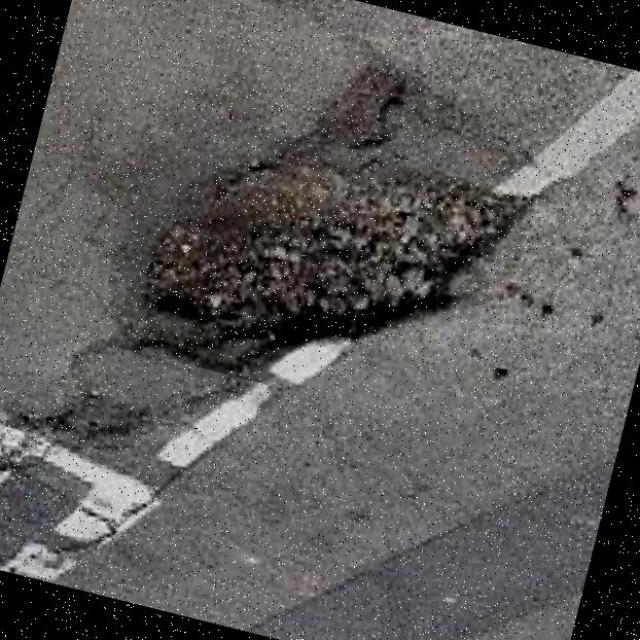pothole: (138, 139, 531, 358)
